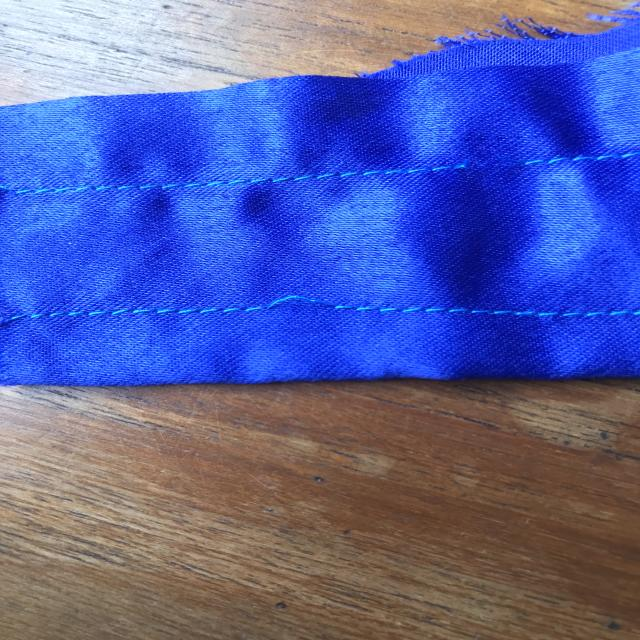broken: (413, 144, 552, 187)
good: (420, 301, 544, 338)
skip: (260, 275, 374, 340)
